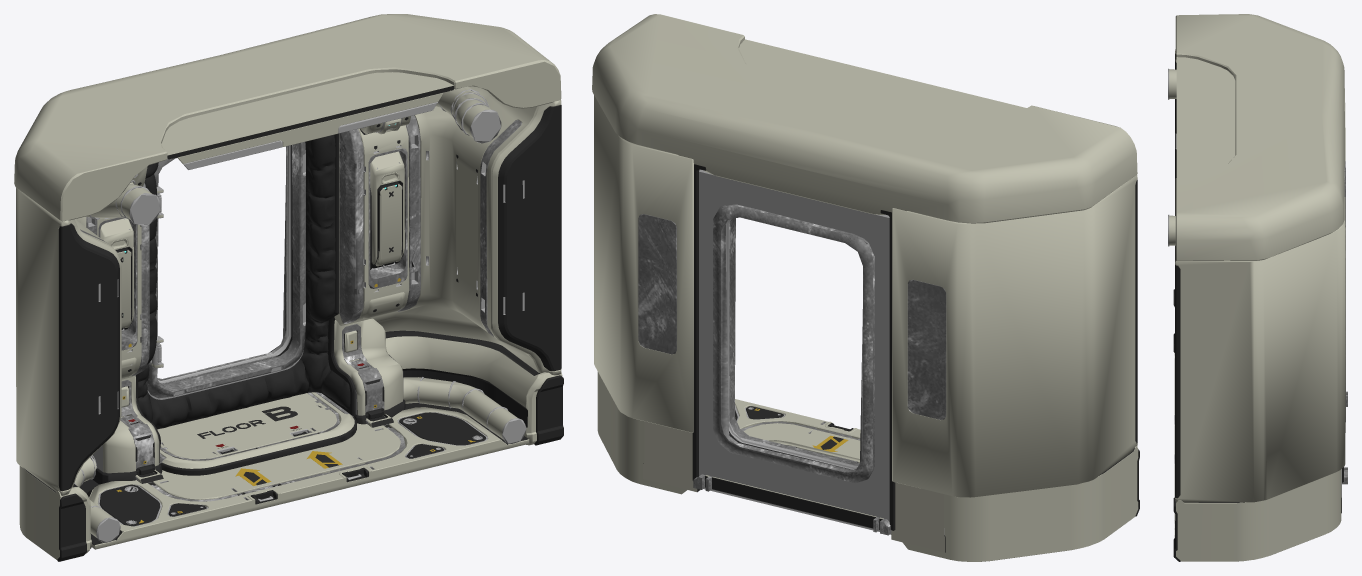
File: entrance.glb
3 renders of one model, left to right at view 1: azimuth 30°, elevation 25°; view 2: azimuth 150°, elevation 25°; view 3: azimuth 270°, elevation 25°, orthographic. The views are drawn at different scales.
Parts seen in each view (by area): view 1: Entrance; view 2: Entrance; view 3: Entrance.
Boxes of the visible parts, left/top/right/bottom form: Entrance: left=14, top=14, right=563, bottom=561; Entrance: left=592, top=14, right=1139, bottom=561; Entrance: left=1168, top=14, right=1347, bottom=561.
Size of the model in its own units: 4.4 by 3.23 by 1.55.
10 materials, 1 textured.
